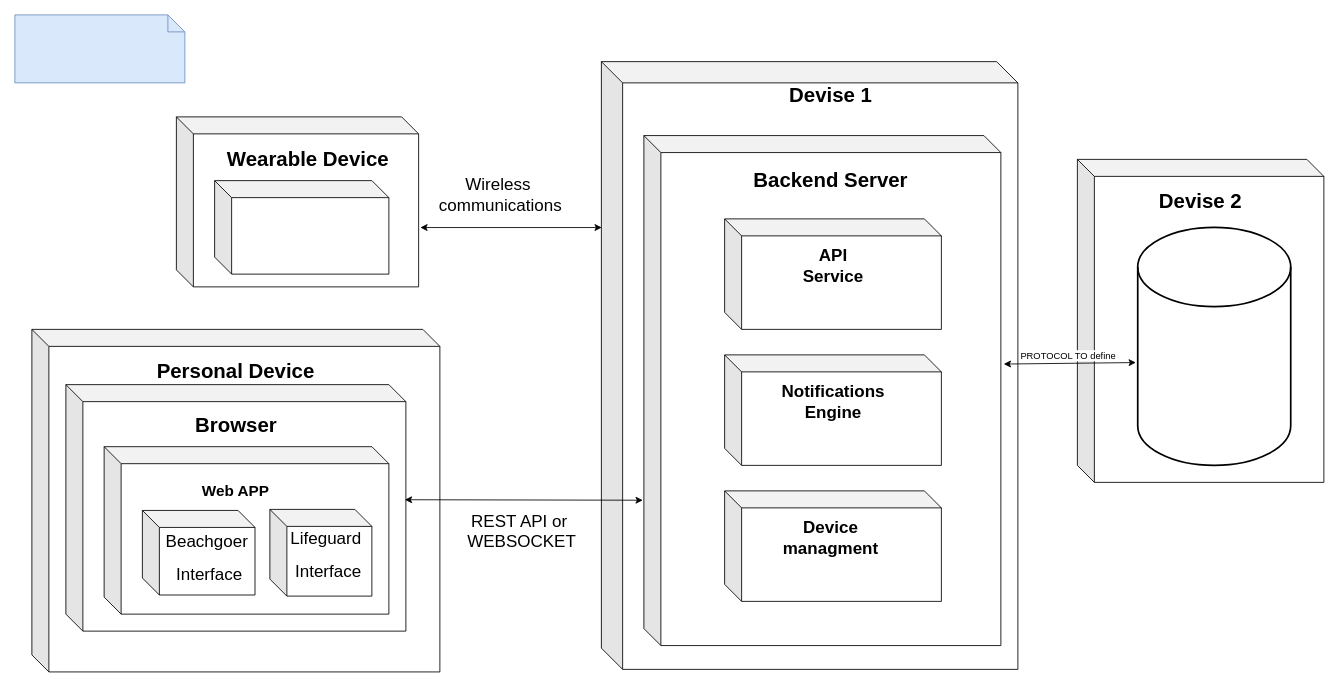
Image size: 1339x687. Some labels were removed from this diagram. Here are the shapes that lost their labels. From the top down, the centre of each, then its label:
At (x=99, y=48): "SPLASH Grupo 14 (AM) V2024/12/04".
At (x=301, y=227): "GPS/RFID tracking".
At (x=1213, y=346): "SQL Database".
